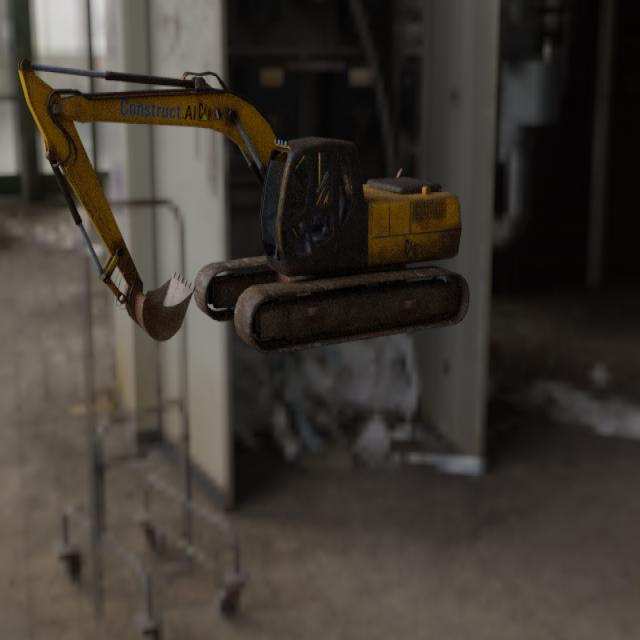excavator: (17, 57, 470, 355)
